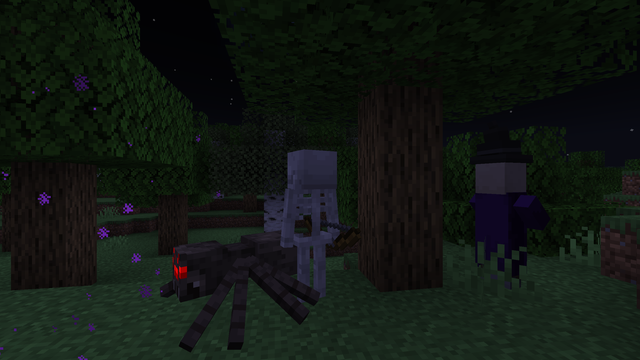araignees: (151, 225, 292, 343)
sorcieres: (469, 157, 534, 292)
squelettes: (288, 150, 337, 309)
